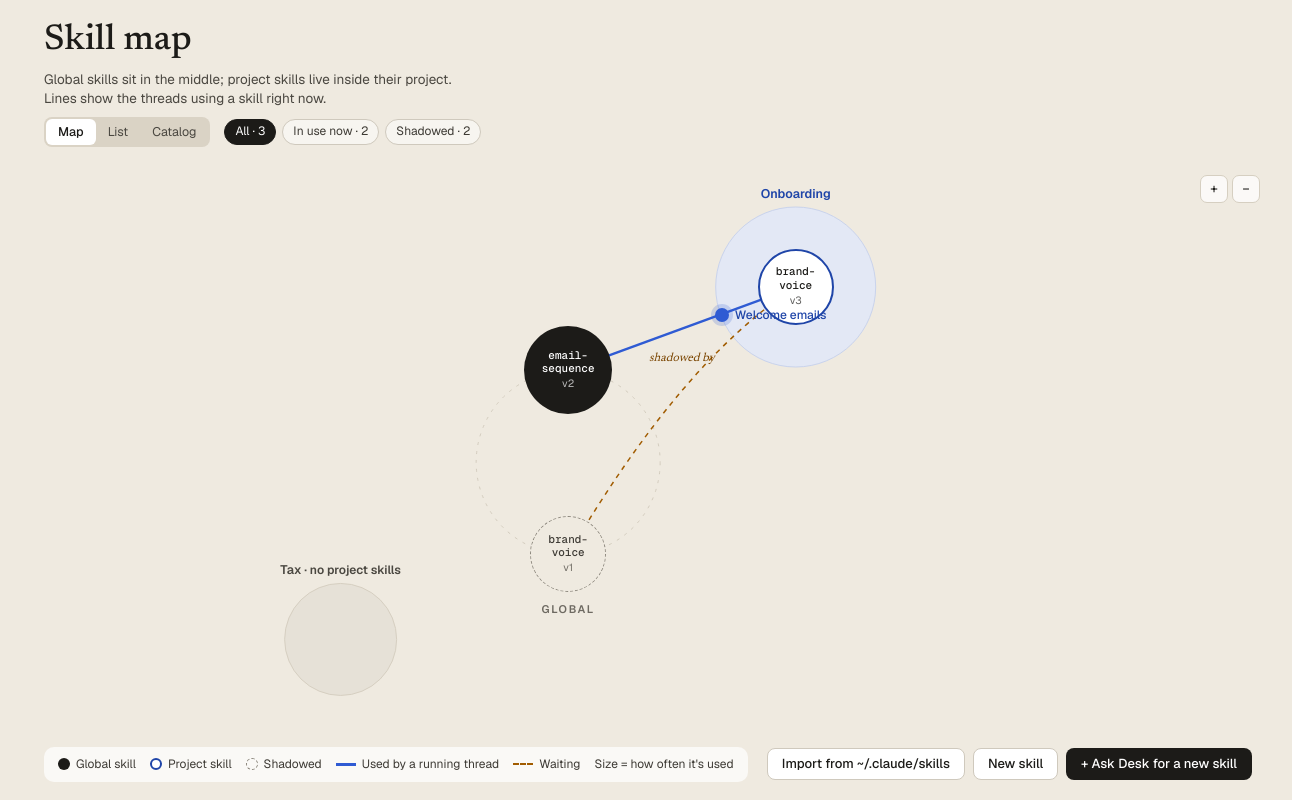
Test: SkillsScreen › maps global, project and shadowed skills with live usage, and lists them too
Expected: the button with aria-label "email-sequence, global, version 2, used by 1" is shown, [524,326,612,414]
Expected: the button with aria-label "brand-voice, global, version 1, shadowed" is shown, [530,516,606,592]
Click the button "List".
click(118, 132)  # box [96,119,140,145]
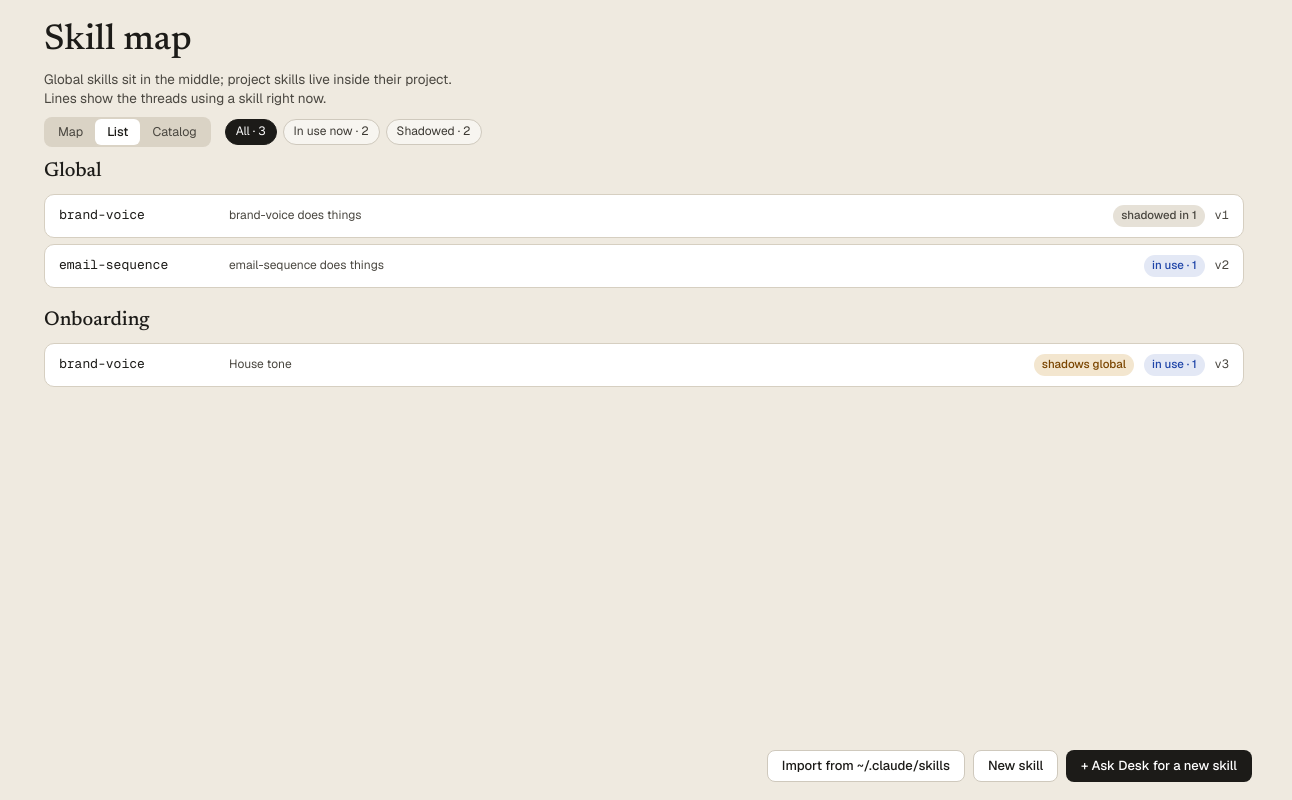
Expected: the element named "Onboarding skills" shows "shadows global", [44,343,1244,387]
